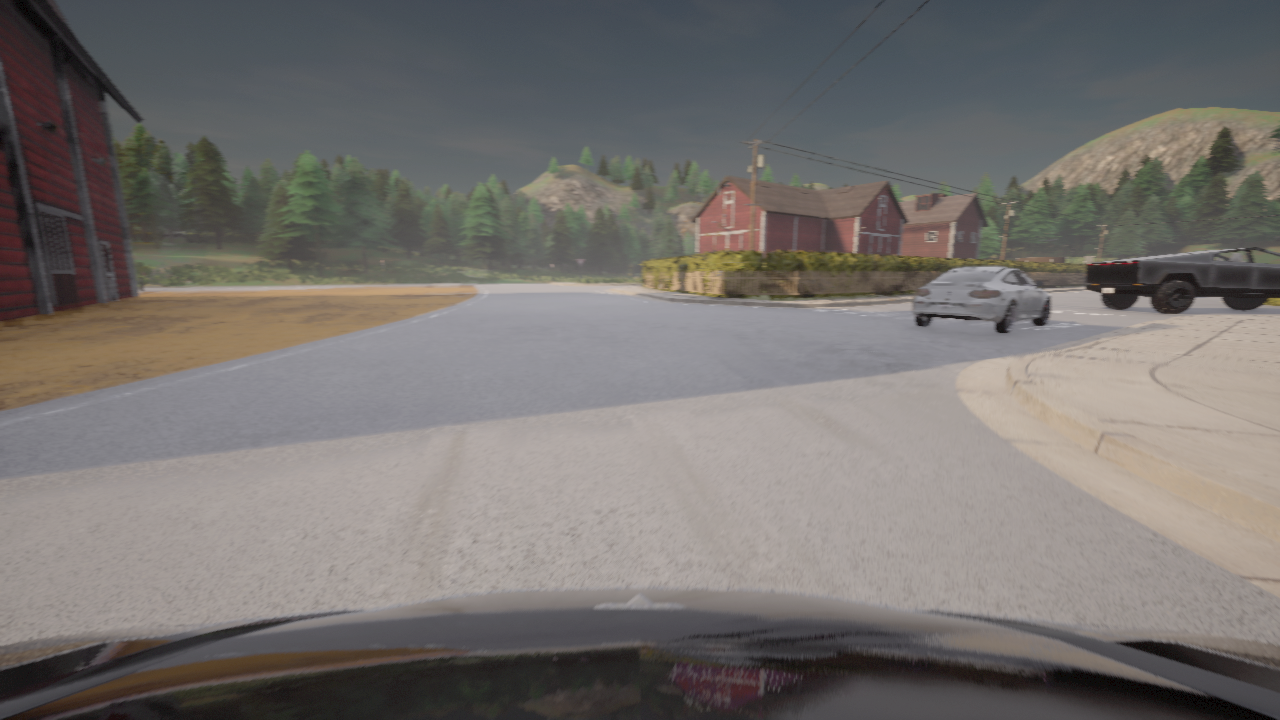cyclist: (0, 588, 1279, 719), (1085, 247, 1279, 313), (913, 266, 1050, 333)
